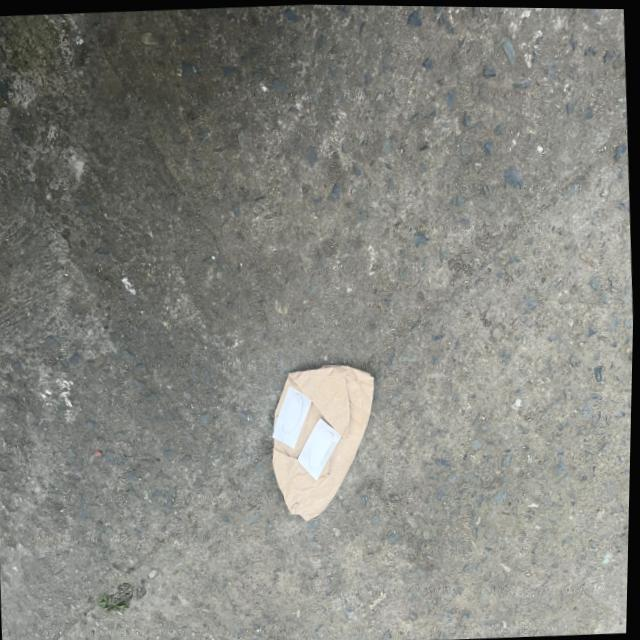Paper_Bag: (268, 360, 386, 524)
